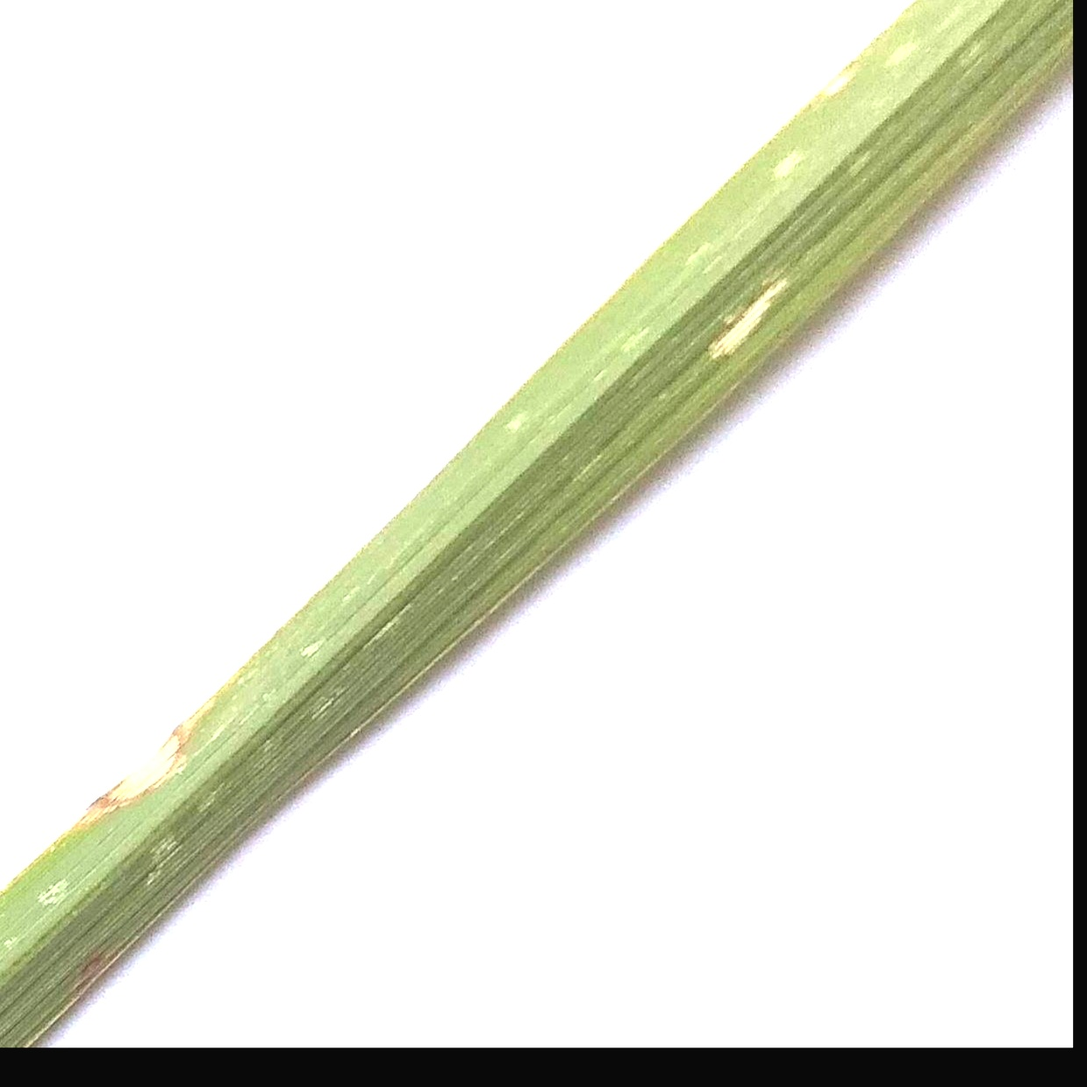Brown_Spot: (74, 691, 212, 816), (688, 245, 804, 370)
